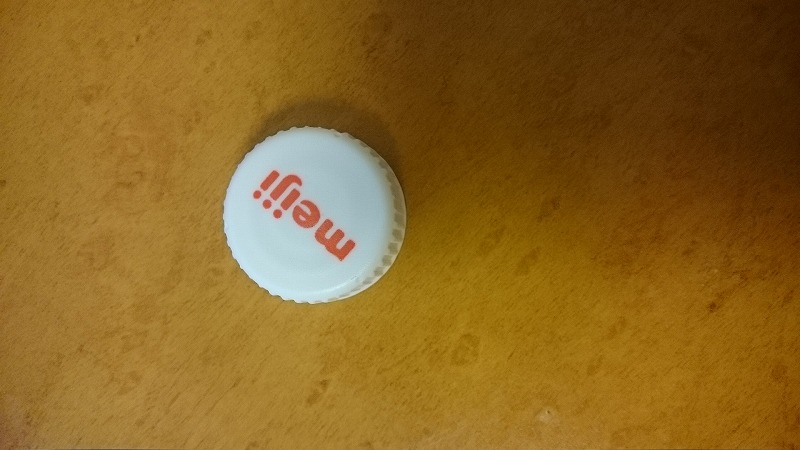B: (216, 116, 413, 316)
